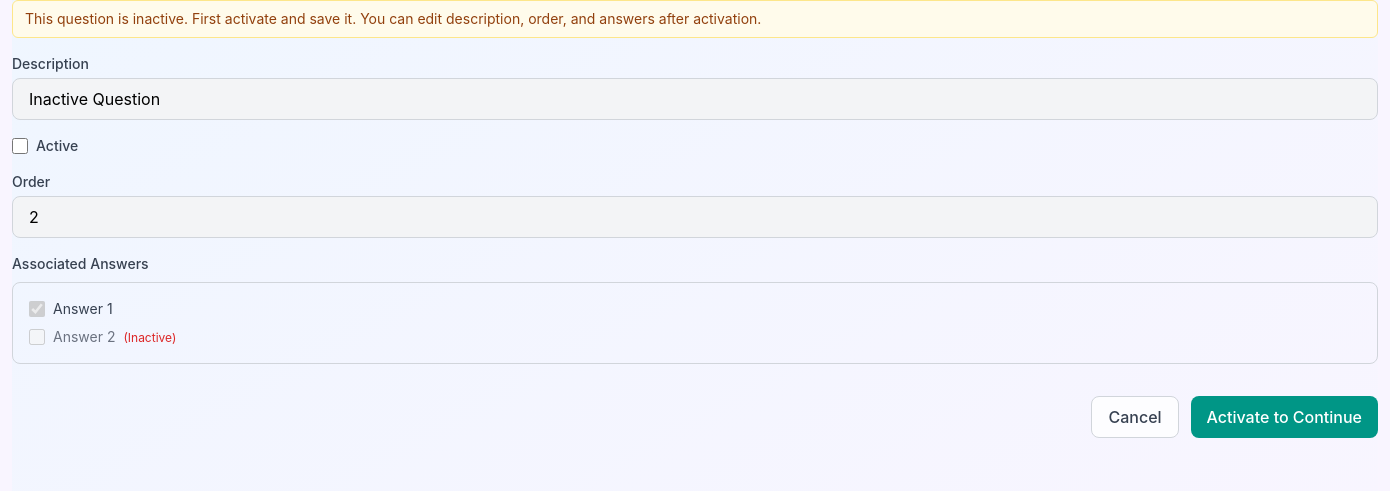
Test: QuestionForm › shows active error if user tries to submit inactive question without activating
The width and height of the screenshot is (1390, 491).
Click the button "Activate to Continue" at (1284, 417), box [1191,396,1378,438]
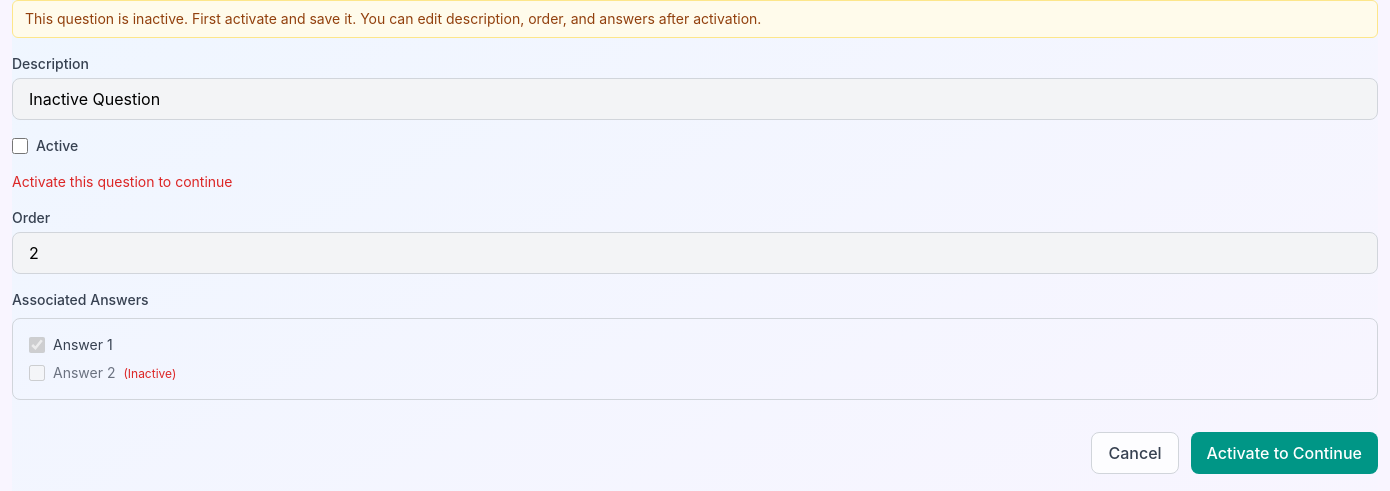
Result: the message "Activate this question to continue" is shown at [12,173,232,190]
